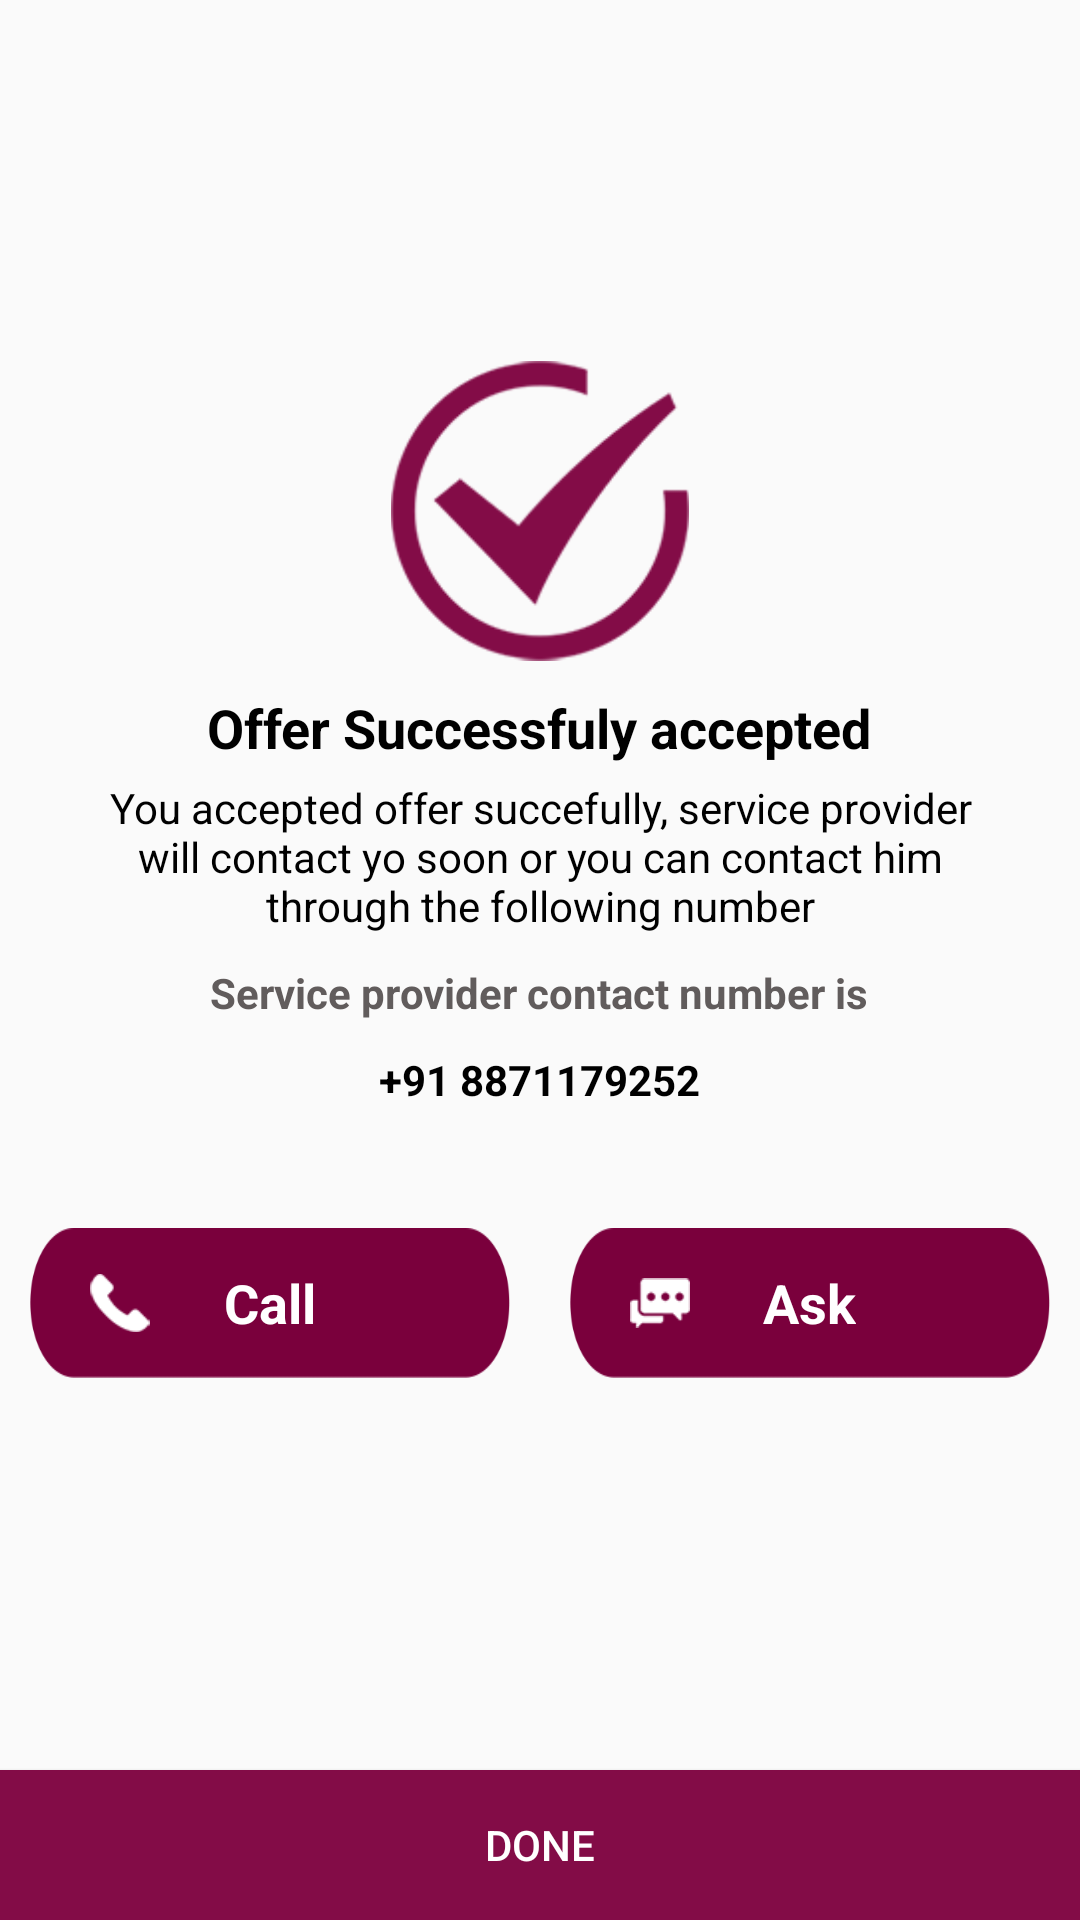

Icon bounding boxes for this 1080x1920 phone screenshot, format [left=x1, top=y1, right=x2, bottom=y2]:
right: [left=391, top=361, right=689, bottom=661]
